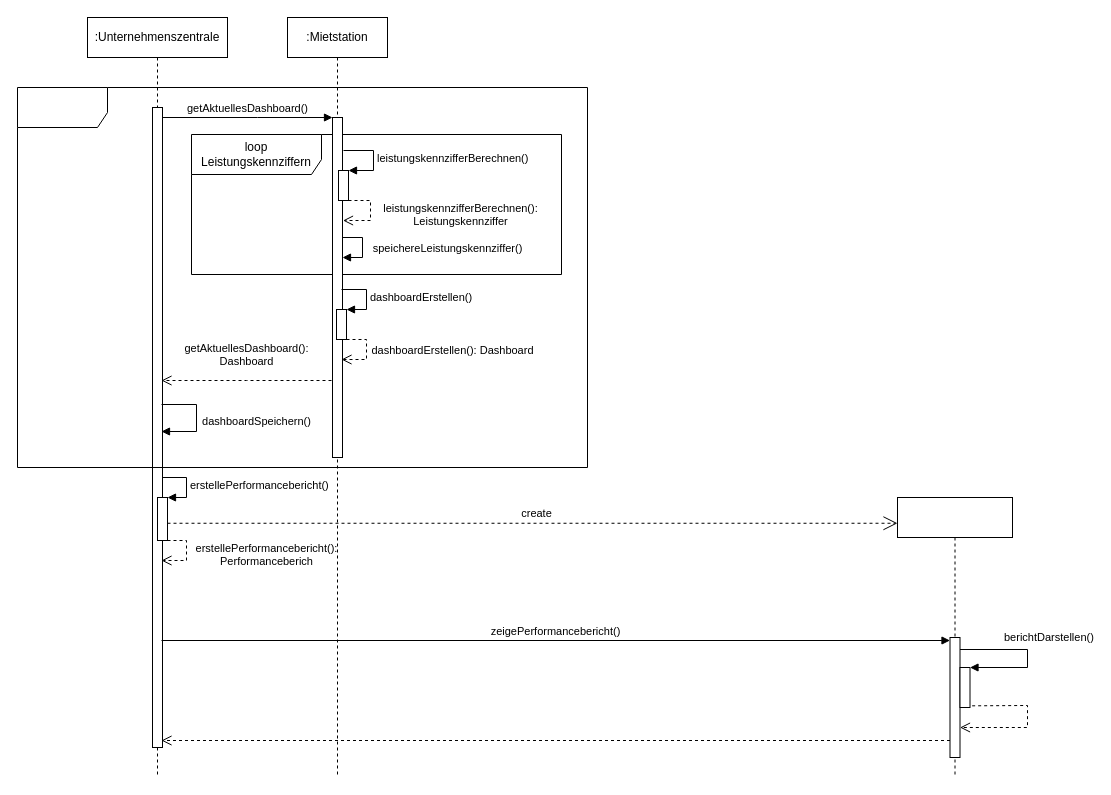
The diagram is 1111 pixels wide and 795 high, and some of its shapes have lost their labels. Here are the shapes that lost their labels. From the top down, the centre of each, then its label:
At point (302, 277): "loop Mietstationen".
At point (954, 637): ":Performancebericht".
